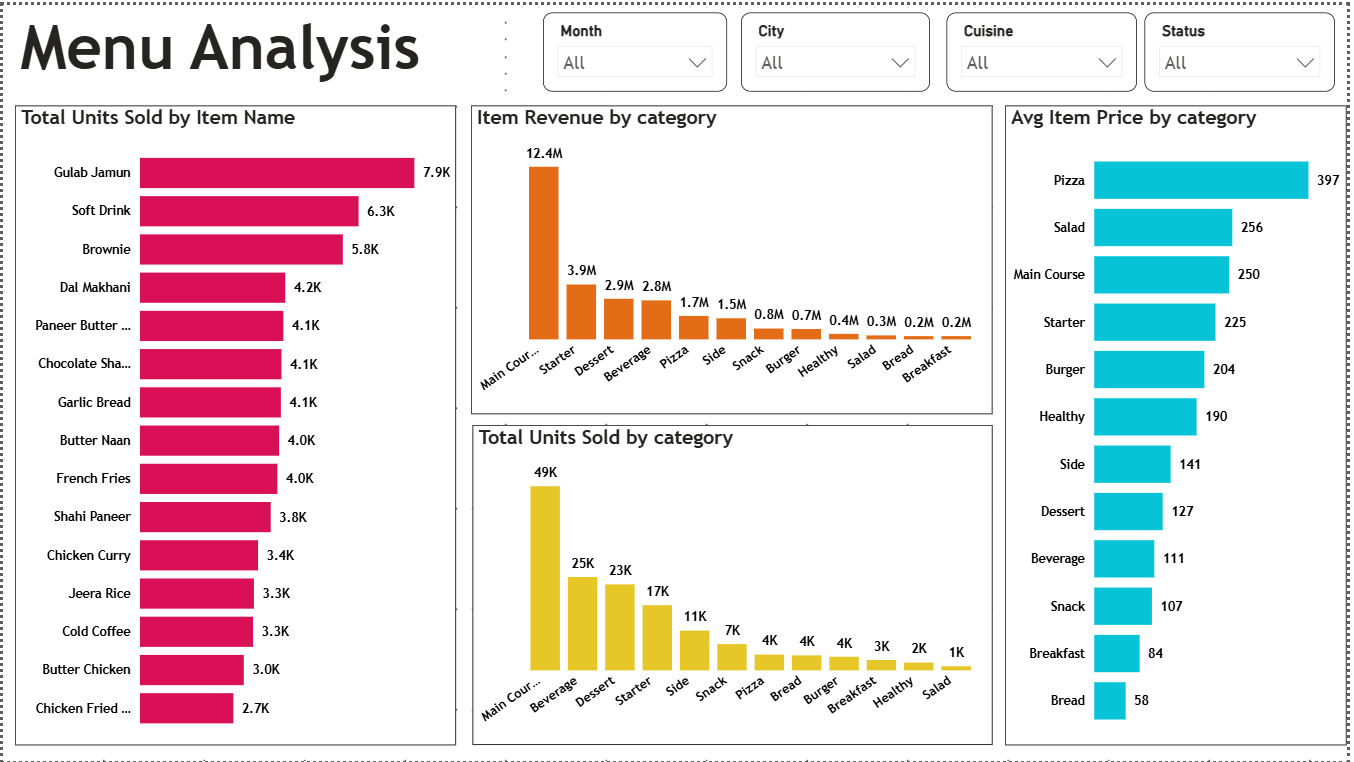

What the dashboard file says about the page in this screenshot:
{"tool":"powerbi","page":{"name":"Menu Analysis","canvas":[1280,720],"ordinal":4},"visuals":[{"type":"barChart","title":"Total Units Sold by Item Name","fields":{"Category":["menu_items.item_name"],"Y":["Menu Analysis.Total Units Sold"]},"box":[10.9,95.3,420.3,609.4],"z":0},{"type":"columnChart","fields":{"Category":["menu_items.category"],"Y":["Menu Analysis.Item Revenue"]},"box":[445.3,95.3,496.9,293.8],"z":1000},{"type":"columnChart","fields":{"Category":["menu_items.category"],"Y":["Menu Analysis.Total Units Sold"]},"box":[446.9,400,495.3,304.7],"z":2000},{"type":"clusteredBarChart","fields":{"Y":["Menu Analysis.Avg Item Price"],"Category":["menu_items.category"]},"box":[954.7,95.3,325,609.4],"z":3000},{"type":"slicer","fields":{"Values":["orders.order_time.Variation.Date Hierarchy.Month"]},"box":[514.1,7.8,175,75],"z":3001},{"type":"slicer","fields":{"Values":["customers.city"]},"box":[703.1,7.8,179.7,75],"z":3002},{"type":"slicer","fields":{"Values":["restaurants.cuisine"]},"box":[898.4,7.8,181.2,75],"z":3003},{"type":"slicer","fields":{"Values":["orders.status"]},"box":[1087.5,7.8,181.2,75],"z":3004},{"type":"textbox","box":[10.9,0,420.3,82.8],"z":3005}]}

Visuals, with their boxes in screenshot pixels (x1, y1, x2, y2), scaled from the page's 1280x720 canvas onto the 1354x762 screenshot:
"Total Units Sold by Item Name" barChart: left=12, top=101, right=456, bottom=746
columnChart - menu_items.category x Menu Analysis.Item Revenue: left=471, top=101, right=997, bottom=412
columnChart - menu_items.category x Menu Analysis.Total Units Sold: left=473, top=423, right=997, bottom=746
clusteredBarChart - Menu Analysis.Avg Item Price x menu_items.category: left=1010, top=101, right=1353, bottom=746
slicer - orders.order_time.Variation.Date Hierarchy.Month: left=544, top=8, right=729, bottom=88
slicer - customers.city: left=744, top=8, right=934, bottom=88
slicer - restaurants.cuisine: left=950, top=8, right=1142, bottom=88
slicer - orders.status: left=1150, top=8, right=1342, bottom=88
textbox: left=12, top=0, right=456, bottom=88
